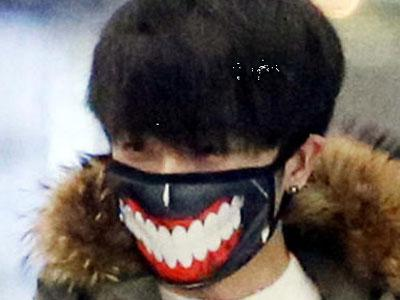OK: (114, 121, 272, 279)
